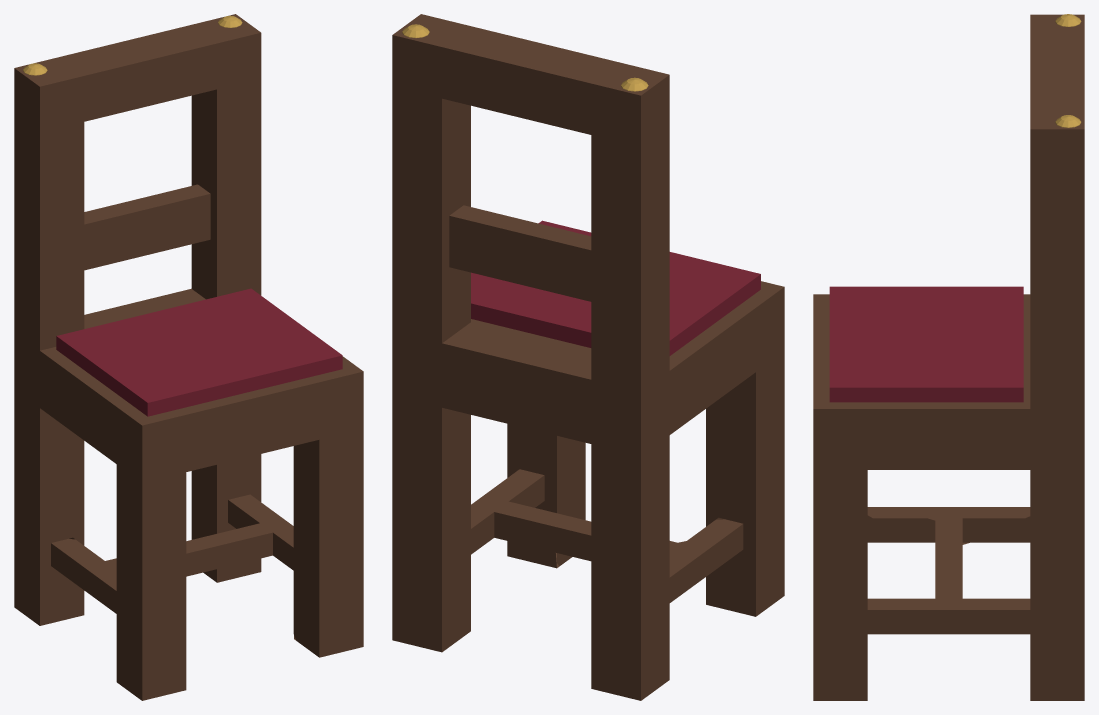
Rendered from chair.glb.
3 views of the same model, side by side, from view 1: azimuth 30°, elevation 25°; view 2: azimuth 150°, elevation 25°; view 3: azimuth 270°, elevation 25° (orthographic). The views are drawn at different scales.
Visible parts, largest first — view 1: chair(Clone); view 2: chair(Clone); view 3: chair(Clone).
Boxes of the visible parts, x1,y1,x2,y2 form: chair(Clone): (14, 14, 363, 700); chair(Clone): (392, 14, 784, 700); chair(Clone): (813, 14, 1084, 700).
Bounding box in the file's own units: 0.2 × 0.47 × 0.2.
